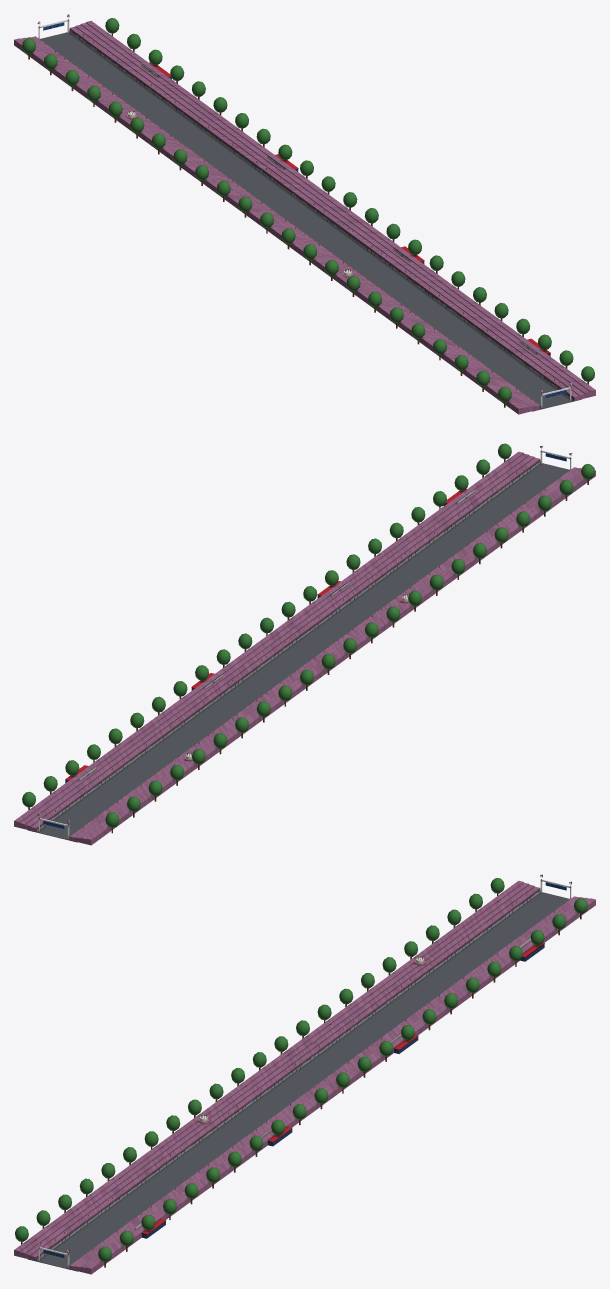
The model's file is desfile_monument.glb.
The picture shows the model from 3 angles, top to bottom: view 1: azimuth 30°, elevation 25°; view 2: azimuth 150°, elevation 25°; view 3: azimuth 330°, elevation 25°; orthographic projection.
Parts seen in each view (by area): view 1: desfile_monument; view 2: desfile_monument; view 3: desfile_monument.
Boxes of the visible parts, x1,y1,x2,y2 form: desfile_monument: [14, 14, 595, 414]; desfile_monument: [14, 443, 595, 845]; desfile_monument: [14, 874, 595, 1274].
Size of the model in its own units: 45.71 by 9.65 by 420.
Materials: 1 (1 with a texture image).
